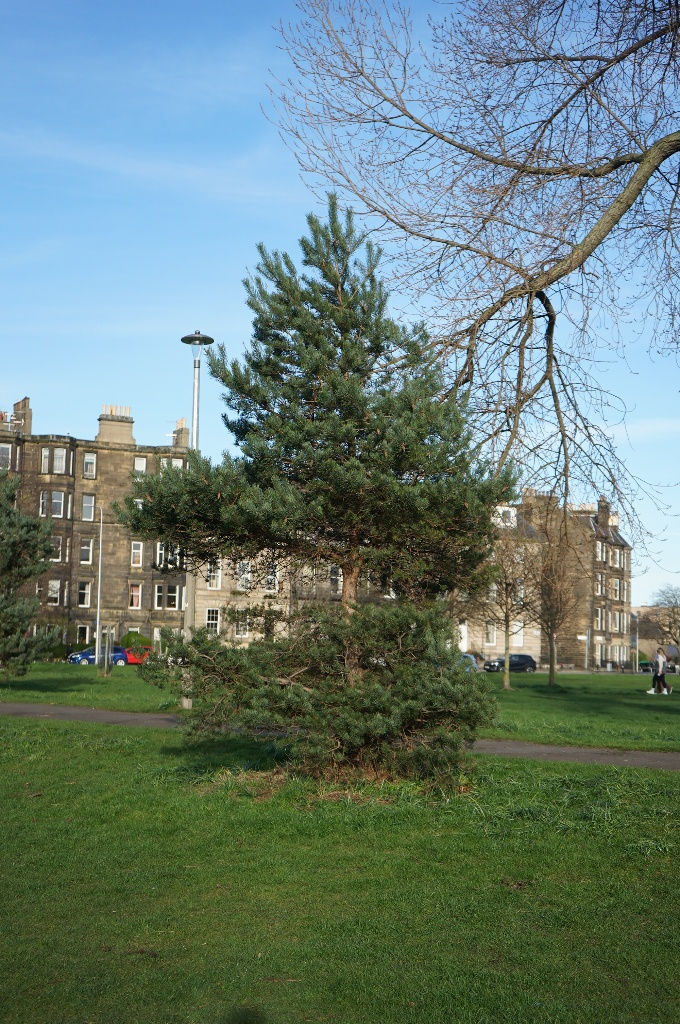Tree: (111, 194, 572, 827), (216, 0, 680, 619), (0, 453, 67, 694)
